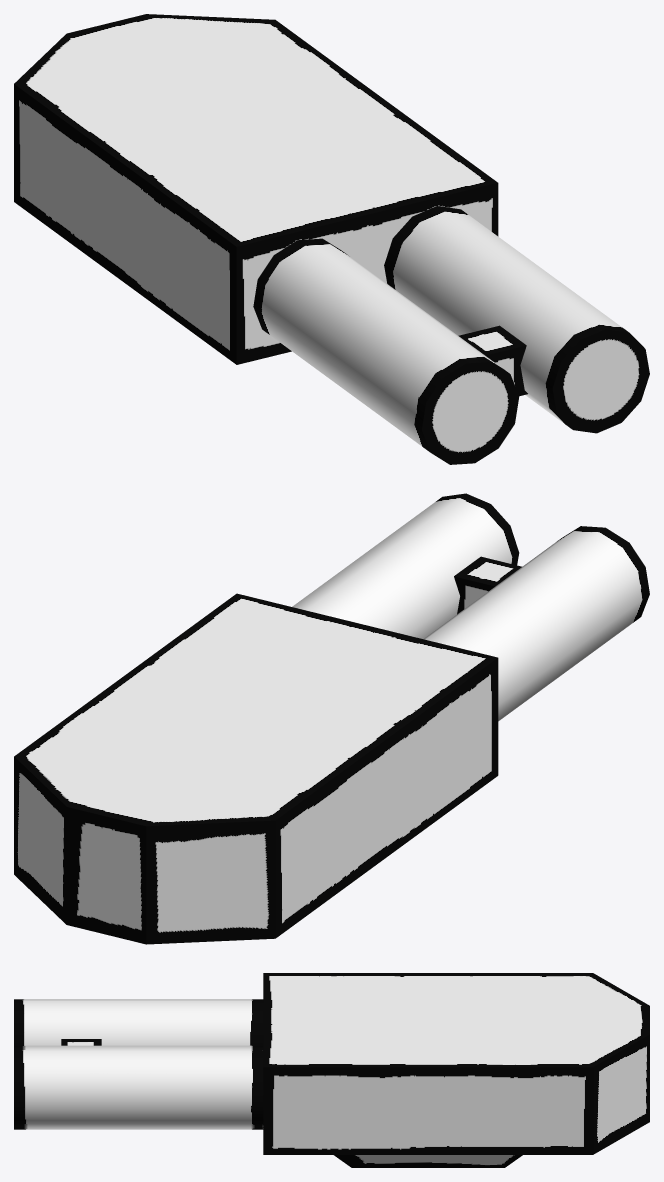
The model's file is DoubleBarrelTurret.fbx.
3 views of the same model, one above another, from view 1: azimuth 30°, elevation 25°; view 2: azimuth 150°, elevation 25°; view 3: azimuth 270°, elevation 25° (orthographic). The views are drawn at different scales.
Visible parts, largest first — view 1: Shotgun; view 2: Shotgun; view 3: Shotgun.
Boxes of the visible parts, <box> form: Shotgun: <box>14,14,649,464</box>; Shotgun: <box>14,493,649,944</box>; Shotgun: <box>14,973,649,1167</box>.
Bounding box in the file's own units: 0.3043 × 0.1891 × 0.8649.
1 material, 1 textured.
